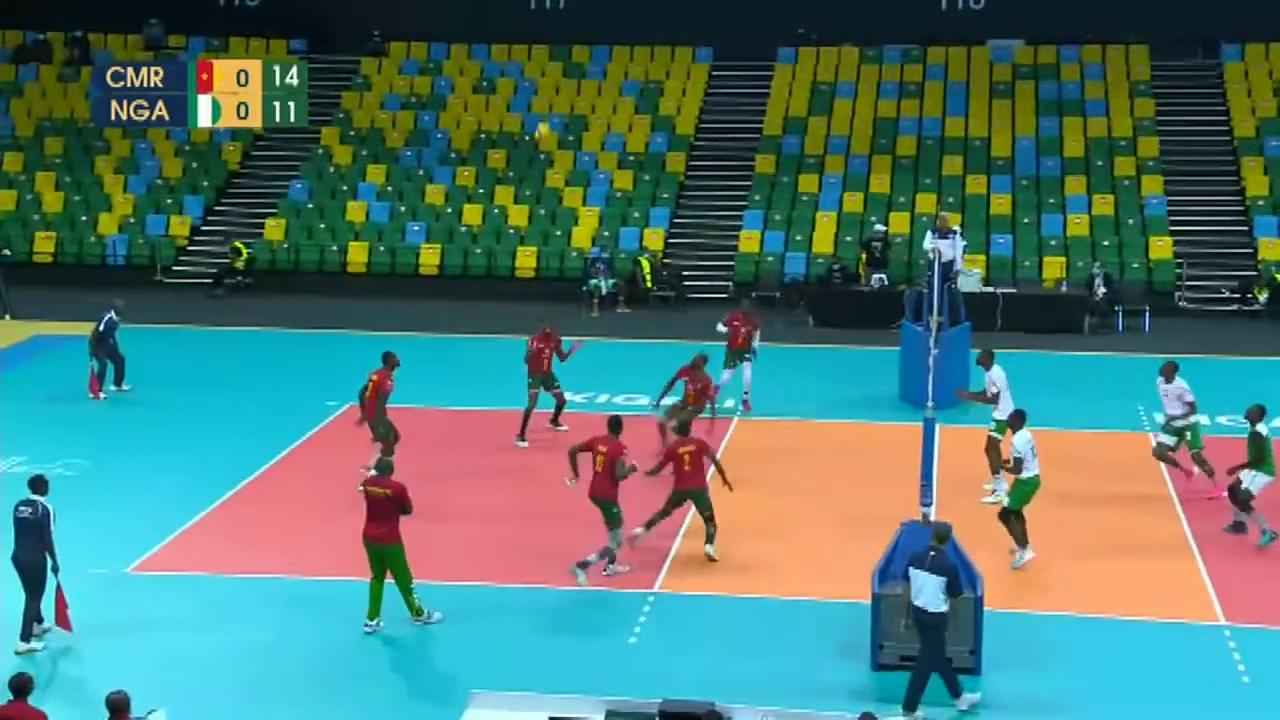player: (627, 417, 730, 561), (563, 419, 639, 573), (1152, 356, 1221, 501), (967, 344, 1021, 508), (984, 411, 1041, 562), (1219, 404, 1278, 548), (656, 337, 724, 461), (516, 318, 575, 447), (359, 351, 404, 476), (717, 300, 760, 413)
refree: (892, 517, 984, 720), (4, 476, 70, 647), (922, 206, 970, 333), (88, 302, 127, 398)
